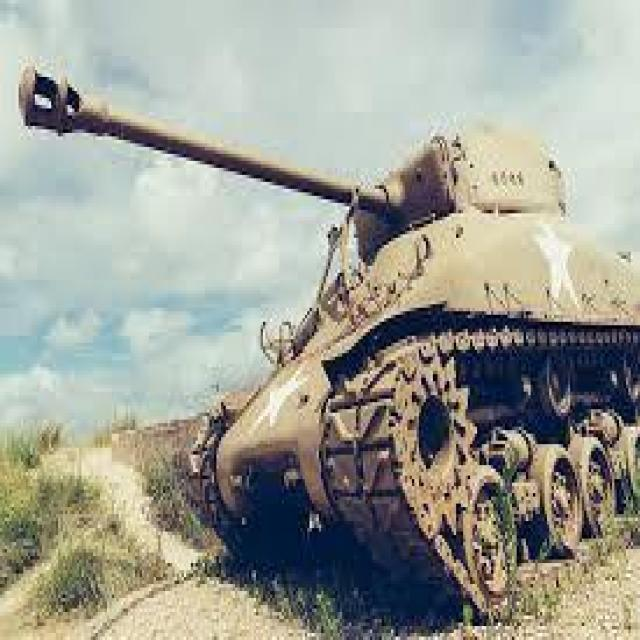Tanks: (13, 9, 569, 628)
